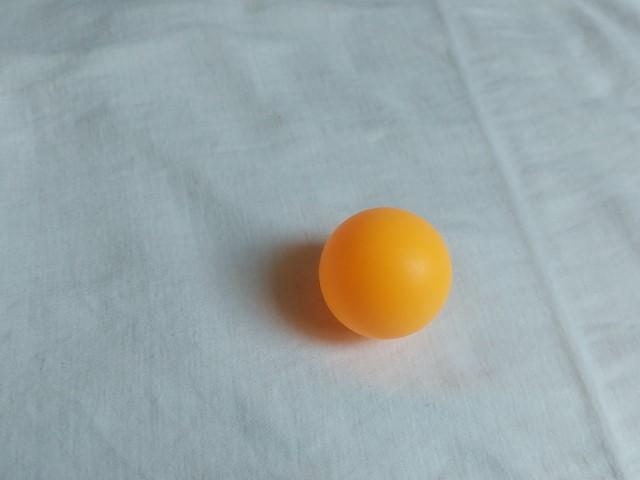oball: (310, 200, 460, 347)
